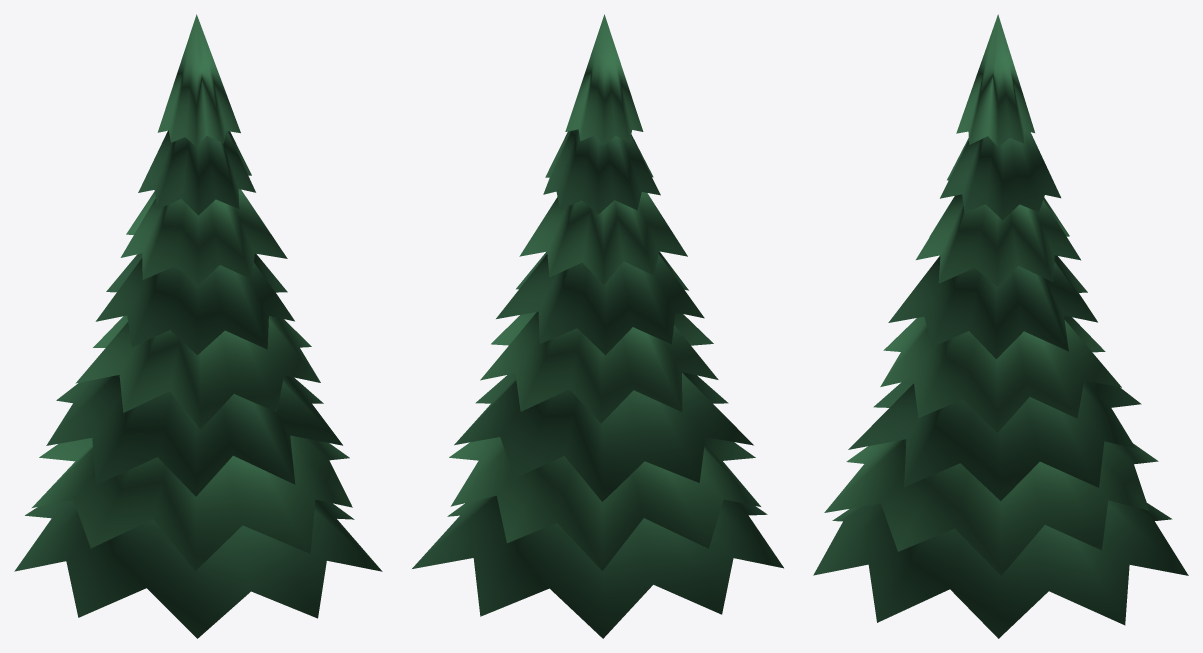
File: nature_pine.glb
The picture shows the model from 3 angles, left to right: view 1: azimuth 30°, elevation 25°; view 2: azimuth 150°, elevation 25°; view 3: azimuth 270°, elevation 25°; orthographic projection.
Parts seen in each view (by area): view 1: nature_pine; view 2: nature_pine; view 3: nature_pine.
Part boxes in pixels (box(x1,y1,x2,y2)): nature_pine: box(14, 14, 382, 638); nature_pine: box(412, 14, 783, 638); nature_pine: box(813, 14, 1188, 638).
Bounding box in the file's own units: 4.9 × 9 × 5.13.
